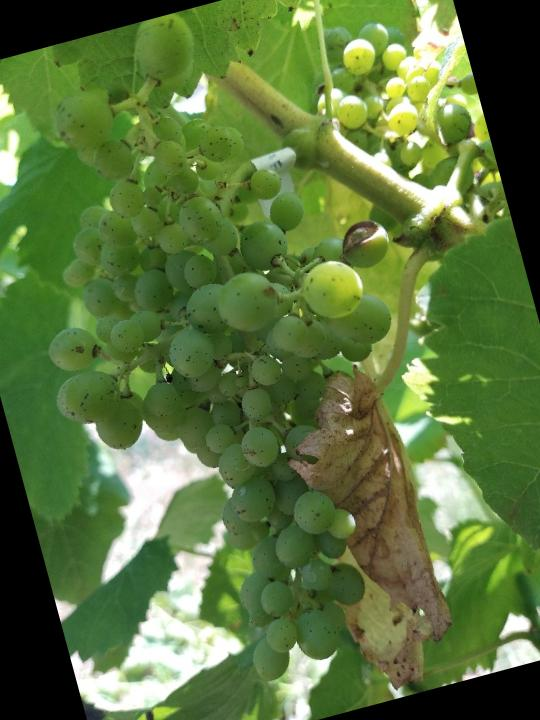grape: (0, 0, 497, 720)
